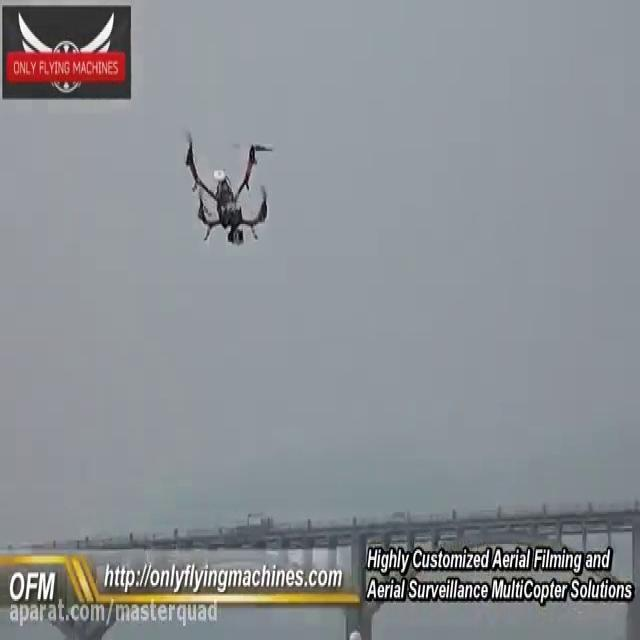drone: (178, 128, 275, 247)
